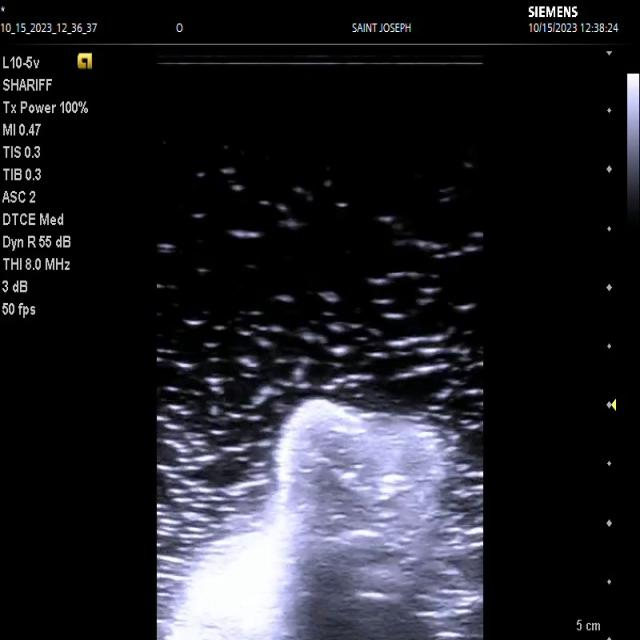tissue: (167, 402, 447, 640)
